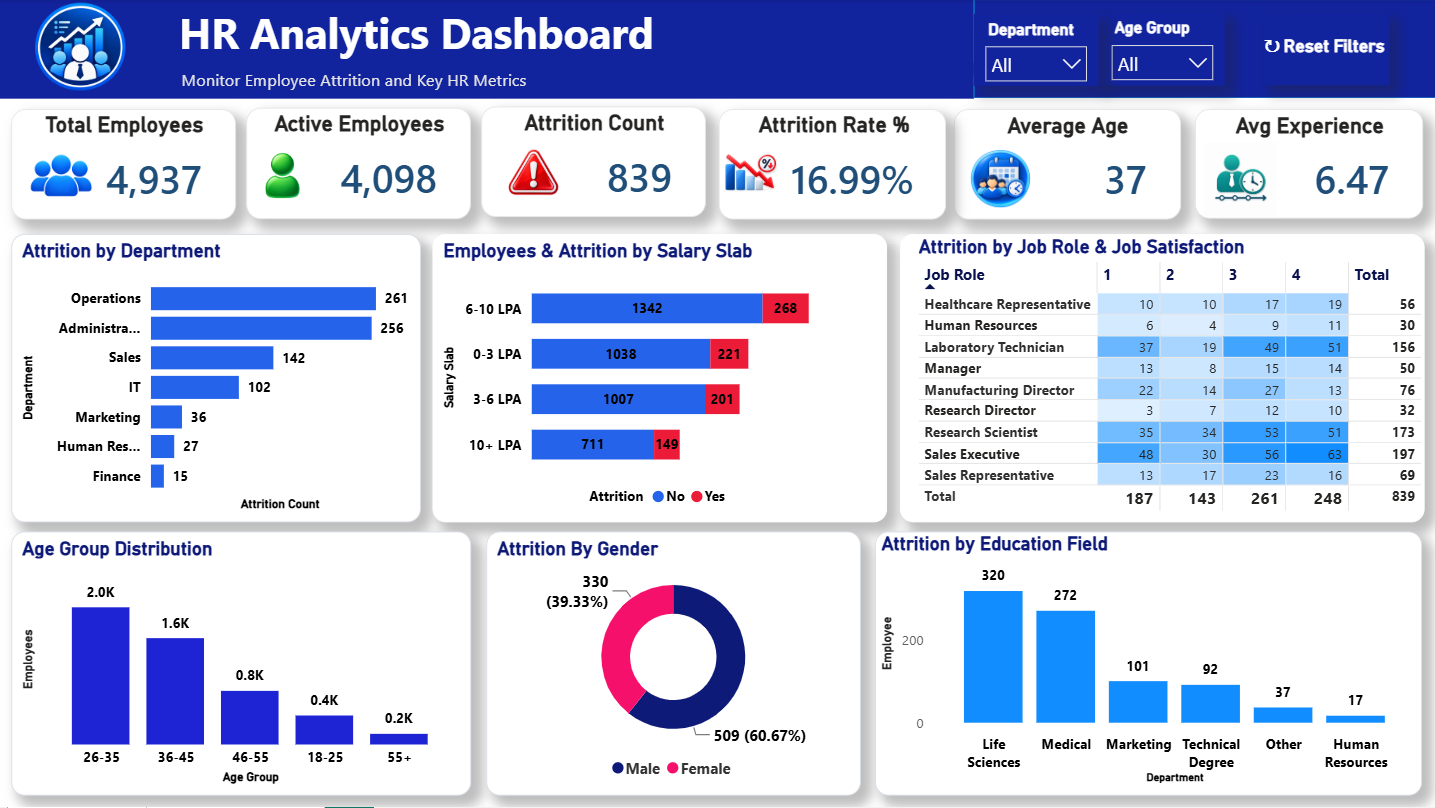

The dashboard page shown, as its layout file describes it:
{"tool":"powerbi","page":{"name":"HR Overview","canvas":[1280,720],"ordinal":0},"visuals":[{"type":"cardVisual","title":"Total Employees","fields":{"Data":["HR_Analytics.Total Employees Formatted"]},"box":[10,98,200,98],"z":0},{"type":"cardVisual","title":"Active Employees","fields":{"Data":["HR_Analytics.Active Employees Formatted"]},"box":[219.3,96.8,200,98.9],"z":1000},{"type":"cardVisual","title":"Average Age","fields":{"Data":["Avg(HR_Analytics.Age)"]},"box":[849.4,98,202,98],"z":2000},{"type":"cardVisual","title":"Attrition Count","fields":{"Data":["Sum(HR_Analytics.AttritionCount)"]},"box":[428.6,95.7,200,98],"z":3000},{"type":"cardVisual","title":"Avg Experience","fields":{"Data":["Avg(HR_Analytics.YearsatCompany)"]},"box":[1064.2,98,203,98],"z":4000},{"type":"cardVisual","title":"Attrition Rate %","fields":{"Data":["HR_Analytics.Attrition Rate %"]},"box":[640.1,98,202,98],"z":5000},{"type":"clusteredBarChart","title":"Attrition by Department","fields":{"Category":["HR_Analytics.Department"],"Y":["Sum(HR_Analytics.AttritionCount)"]},"box":[10,209.3,365.1,257.1],"z":6000},{"type":"barChart","title":"Employees & Attrition by Salary Slab","fields":{"Category":["HR_Analytics.SalarySlab"],"Y":["CountNonNull(HR_Analytics.EmpID)"],"Series":["HR_Analytics.Attrition"]},"box":[385.2,209.3,405.2,257.1],"z":7000},{"type":"pivotTable","title":"Attrition by Job Role & Job Satisfaction","fields":{"Rows":["HR_Analytics.JobRole"],"Values":["Sum(HR_Analytics.AttritionCount)"],"Columns":["HR_Analytics.JobSatisfaction"]},"box":[801.5,209.3,467.5,257.1],"z":8000},{"type":"columnChart","title":"Age Group Distribution","fields":{"Category":["HR_Analytics.AgeGroup"],"Y":["Sum(HR_Analytics.EmployeeCount)"]},"box":[10,474.2,409.6,234.9],"z":9000},{"type":"donutChart","title":"Attrition By Gender","fields":{"Category":["HR_Analytics.Gender"],"Y":["Sum(HR_Analytics.AttritionCount)"]},"box":[433,474.2,334,234.9],"z":10000},{"type":"columnChart","title":"Attrition by Education Field","fields":{"Y":["Sum(HR_Analytics.AttritionCount)"],"Category":["HR_Analytics.EducationField"]},"box":[779.2,474.2,487.6,234.9],"z":11000},{"type":"textbox","box":[0,0,867,67.6],"z":12000},{"type":"textbox","box":[0,56.6,867,31.8],"z":13000},{"type":"image","box":[0,0,144.7,87.9],"z":14000},{"type":"image","box":[219.6,136.3,65.1,43.4],"z":15000},{"type":"image","box":[18.9,132.5,71.2,51.2],"z":16000},{"type":"image","box":[440.8,133.6,69,42.3],"z":17000},{"type":"image","box":[640.1,125.8,56.8,57.9],"z":18000},{"type":"image","box":[849.4,133.6,83.5,54.5],"z":19000},{"type":"image","box":[1064.2,128,81.3,65.7],"z":20000},{"type":"shape","box":[867,0,412.8,88.4],"z":21000},{"type":"slicer","fields":{"Values":["HR_Analytics.AgeGroup"]},"box":[979.6,12.2,111,64.9],"z":22000},{"type":"slicer","fields":{"Values":["HR_Analytics.Department"]},"box":[867.2,13.4,111,64],"z":23000},{"type":"actionButton","title":"↻  Reset Filters","box":[1125,12,111,64],"z":24000}]}

Visuals, with their boxes in screenshot pixels (x1, y1, x2, y2), scaled from the page's 1280x720 canvas onto the 1435x808 screenshot:
"Total Employees" cardVisual: l=11, t=110, r=235, b=220
"Active Employees" cardVisual: l=246, t=109, r=470, b=220
"Average Age" cardVisual: l=952, t=110, r=1179, b=220
"Attrition Count" cardVisual: l=481, t=107, r=705, b=217
"Avg Experience" cardVisual: l=1193, t=110, r=1421, b=220
"Attrition Rate %" cardVisual: l=718, t=110, r=944, b=220
"Attrition by Department" clusteredBarChart: l=11, t=235, r=421, b=523
"Employees & Attrition by Salary Slab" barChart: l=432, t=235, r=886, b=523
"Attrition by Job Role & Job Satisfaction" pivotTable: l=899, t=235, r=1423, b=523
"Age Group Distribution" columnChart: l=11, t=532, r=470, b=796
"Attrition By Gender" donutChart: l=485, t=532, r=860, b=796
"Attrition by Education Field" columnChart: l=874, t=532, r=1420, b=796
textbox: l=0, t=0, r=972, b=76
textbox: l=0, t=64, r=972, b=99
image: l=0, t=0, r=162, b=99
image: l=246, t=153, r=319, b=202
image: l=21, t=149, r=101, b=206
image: l=494, t=150, r=572, b=197
image: l=718, t=141, r=781, b=206
image: l=952, t=150, r=1046, b=211
image: l=1193, t=144, r=1284, b=217
shape: l=972, t=0, r=1434, b=99
slicer - HR_Analytics.AgeGroup: l=1098, t=14, r=1223, b=87
slicer - HR_Analytics.Department: l=972, t=15, r=1097, b=87
"↻  Reset Filters" actionButton: l=1261, t=13, r=1386, b=85
